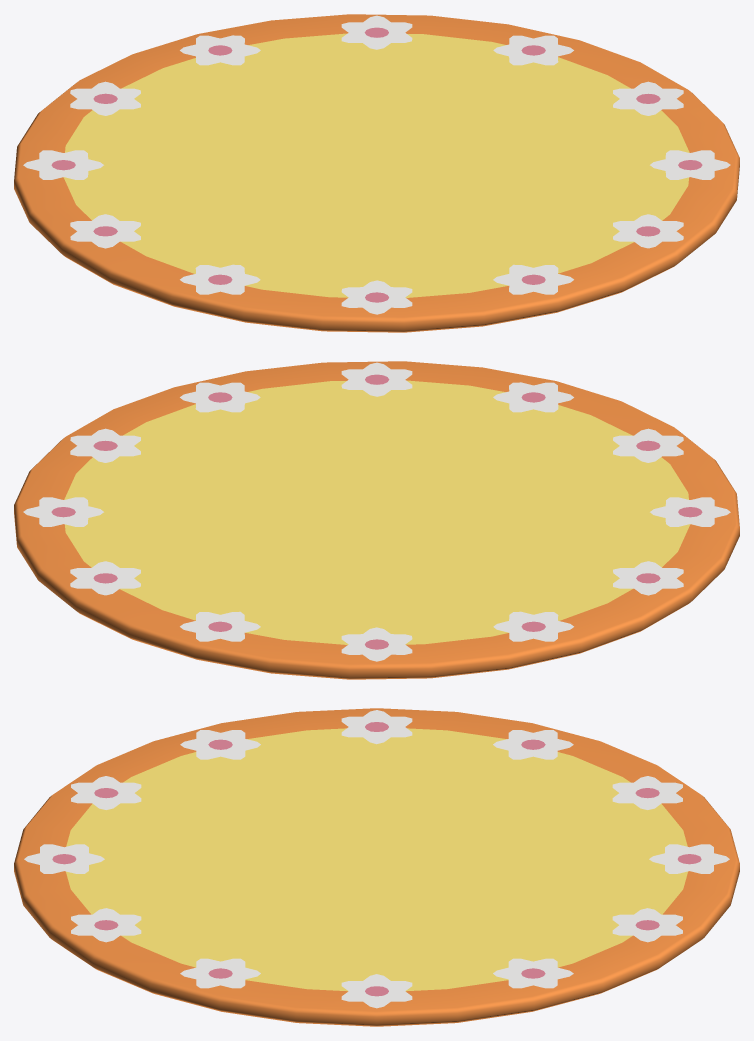
The model's file is Carpet_2.glb.
The picture shows the model from 3 angles, top to bottom: view 1: azimuth 30°, elevation 25°; view 2: azimuth 150°, elevation 25°; view 3: azimuth 270°, elevation 25°; orthographic projection.
Visible parts, largest first — view 1: Carpet_8; view 2: Carpet_8; view 3: Carpet_8.
Part boxes in pixels (<box>): Carpet_8: <box>14,14,739,332</box>; Carpet_8: <box>14,361,739,679</box>; Carpet_8: <box>14,708,739,1026</box>.
Size of the model in its own units: 2.68 by 0.0656 by 2.68.
Materials: 1 (1 with a texture image).
